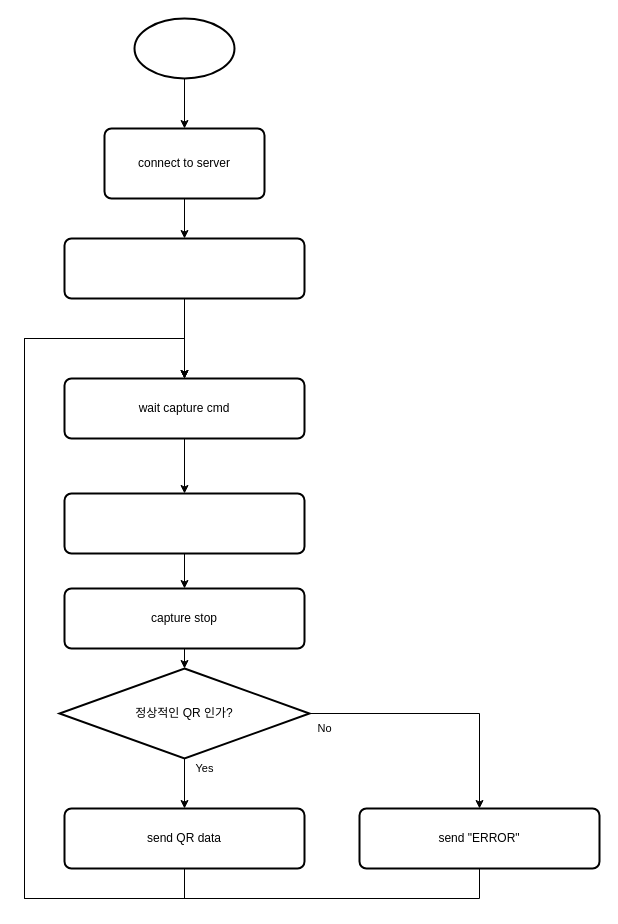
The diagram is 618 pixels wide and 924 high, and some of its shapes have lost their labels. Each missing label, with the box of its shape:
QR capture complete ( 자리수 확인 기능 ): (63, 492, 305, 554)
send : "CLIENT_TYPE=INSPECTION": (63, 237, 305, 299)
start: (133, 17, 235, 79)
